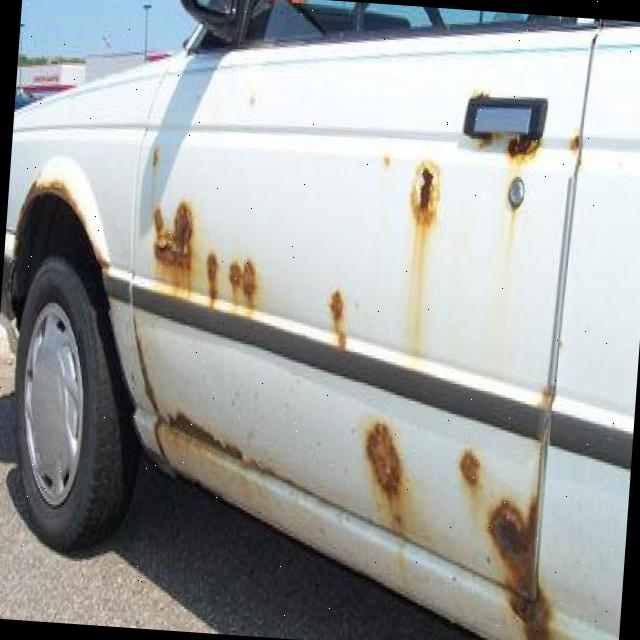Corrosion: (0, 0, 640, 640), (477, 492, 559, 640), (396, 159, 442, 356), (356, 418, 414, 536), (323, 286, 350, 348), (240, 256, 260, 312), (202, 251, 220, 307), (225, 256, 243, 306)
